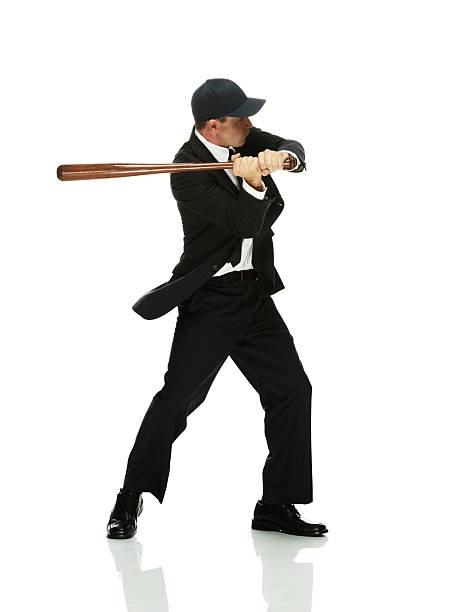bita: (54, 153, 313, 188)
